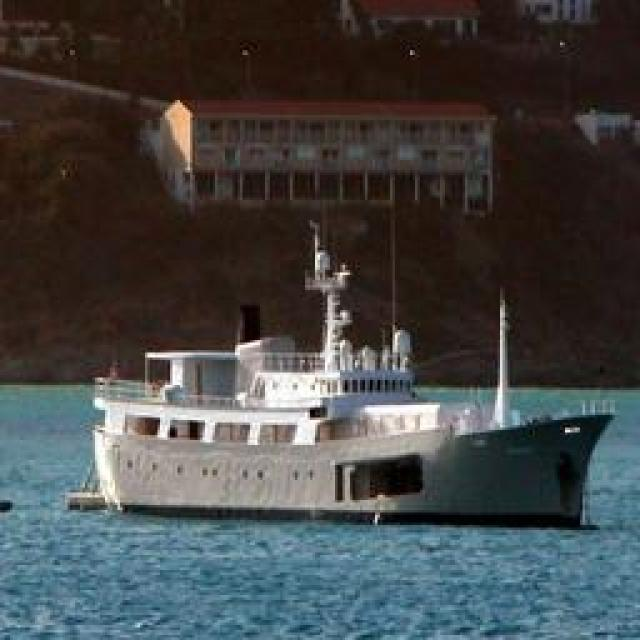CIV_Ship: (96, 385, 616, 525)
